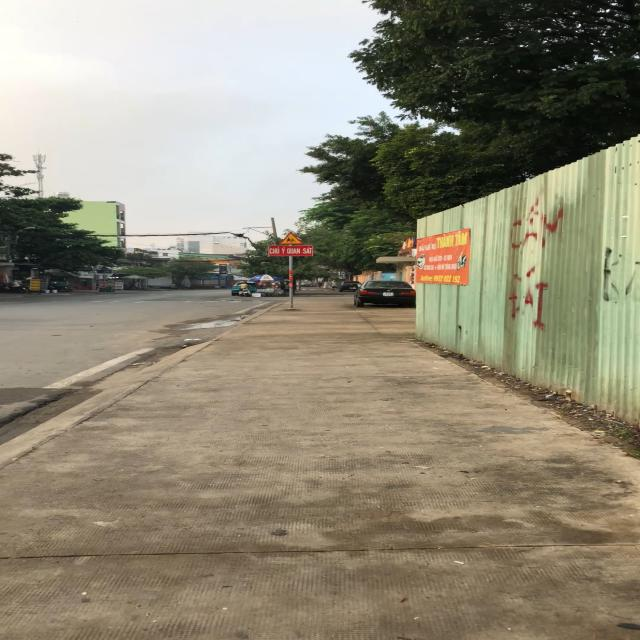Bien bao tre em: (278, 231, 301, 245)
